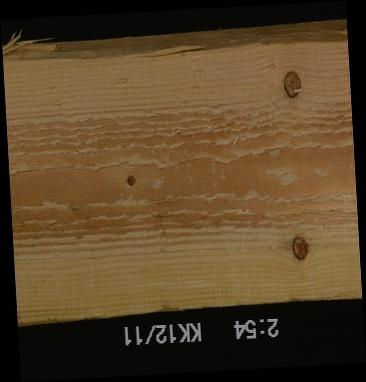dry_knot: (281, 68, 303, 100), (289, 234, 310, 262), (124, 172, 138, 189)
wave: (1, 29, 346, 59)
